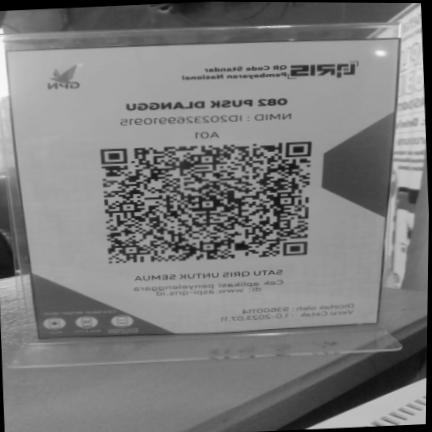Cara Pakai QRIS: (38, 308, 143, 337)
Cek Aplikasi Penyelenggara: (127, 278, 286, 299)
Dicetak Oleh: (240, 302, 357, 315)
Logo GPN: (41, 62, 88, 93)
Logo dan deskripsi QRIS: (175, 58, 366, 85)
Nama Merchant: (118, 94, 294, 114)
National Merchant ID: (113, 110, 300, 129)
QR Code: (95, 138, 319, 267)
Slogan: (127, 267, 287, 284)
Terminal ID: (187, 129, 225, 141)
Versi Cetak: (219, 309, 357, 324)
